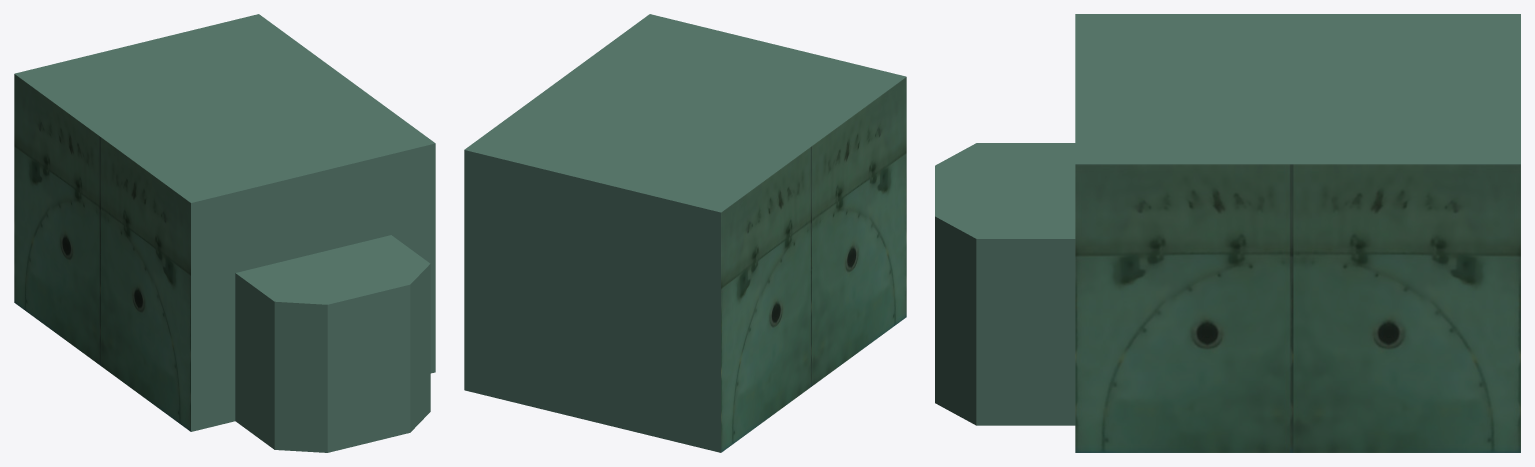
The model's file is RefineryM01.fbx.
3 renders of one model, left to right at view 1: azimuth 30°, elevation 25°; view 2: azimuth 150°, elevation 25°; view 3: azimuth 270°, elevation 25°, orthographic. The views are drawn at different scales.
Visible parts, largest first — view 1: Refinary_m01; view 2: Refinary_m01; view 3: Refinary_m01.
Boxes of the visible parts, box(x1,y1,x2,y2) form: Refinary_m01: box(14, 14, 435, 452); Refinary_m01: box(464, 14, 906, 452); Refinary_m01: box(935, 14, 1520, 452).
Bounding box in the file's own units: 336 × 300 × 552.
